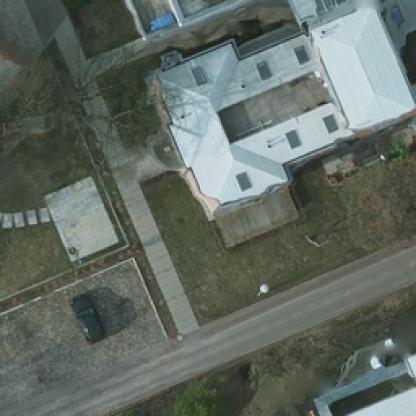car: (68, 290, 104, 340)
